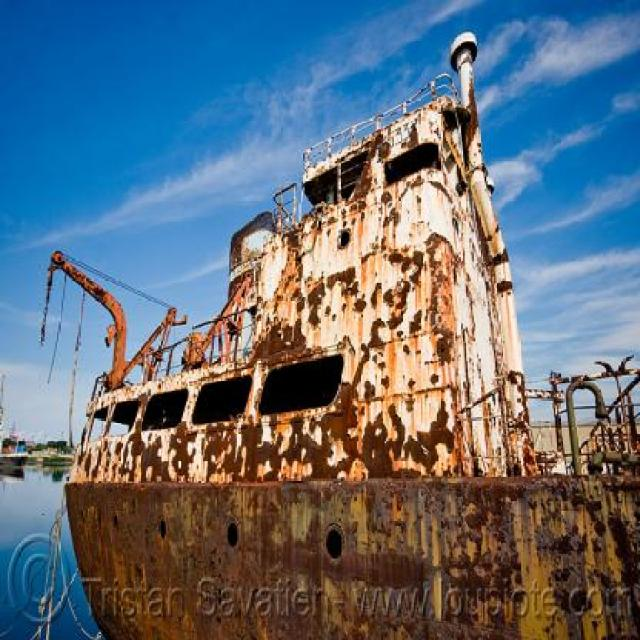corrosion: (55, 41, 640, 639)
